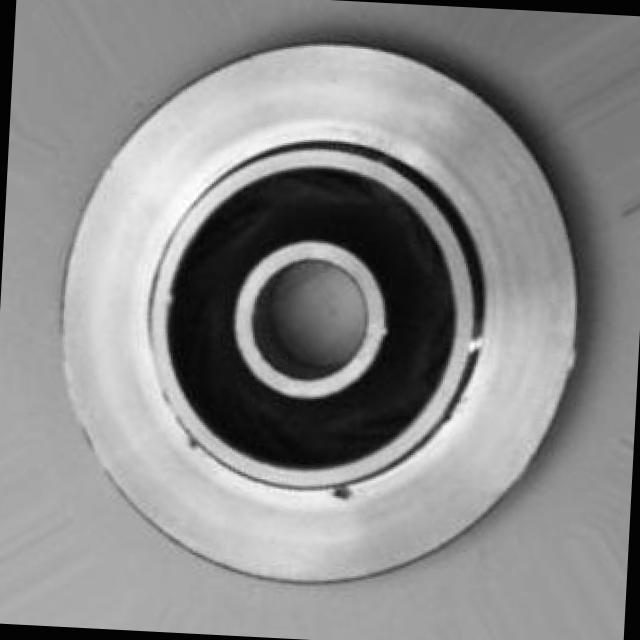Defect: (325, 476, 358, 511)
